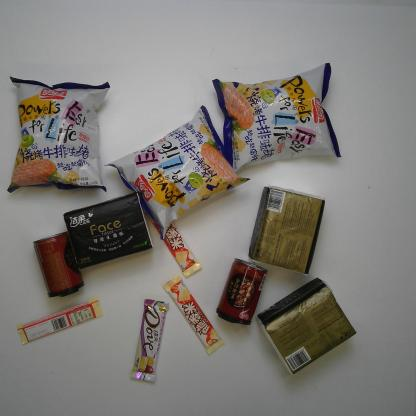Canned Food: (30, 230, 86, 298), (216, 258, 268, 326)
Chocolate: (163, 273, 224, 355), (18, 298, 103, 346), (147, 208, 204, 276), (128, 298, 168, 384)
Puffed Food: (105, 102, 255, 238), (210, 62, 343, 172), (6, 74, 110, 192)
Tissue: (257, 277, 357, 376), (63, 190, 158, 272), (248, 186, 326, 276)
